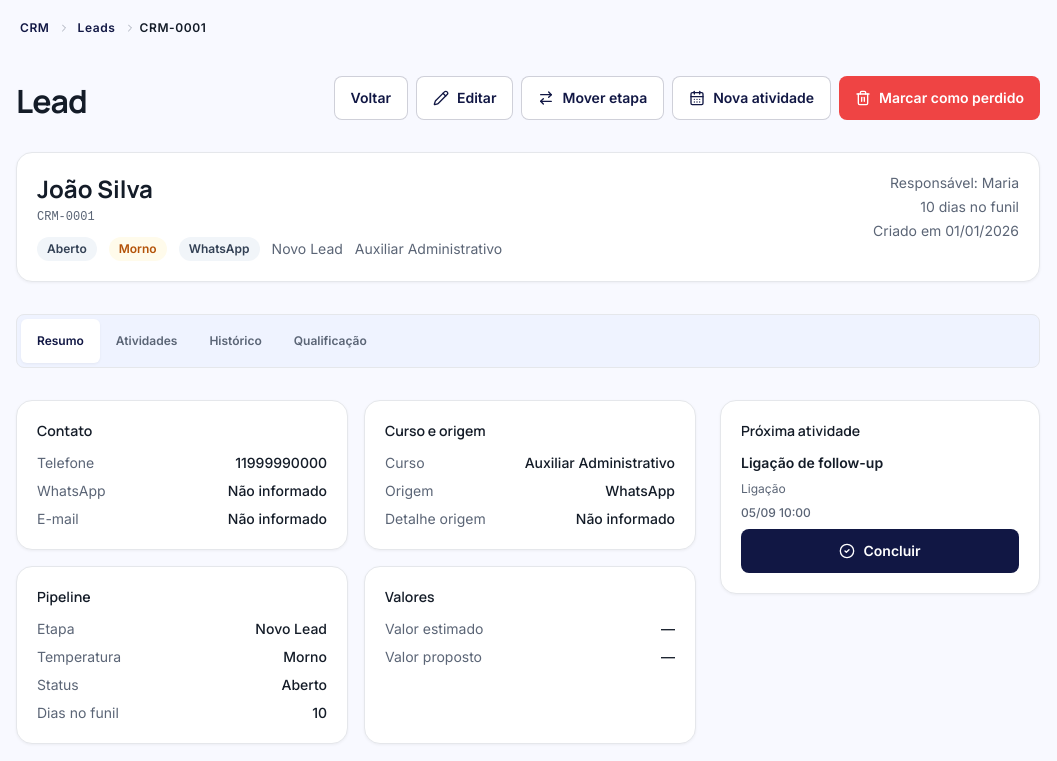
Test case: LeadDetailsPage — HistoricoTab (timeline) › shows empty state when timeline has no events
Click the tab "Histórico" at (236, 341), box [193,319,278,363]
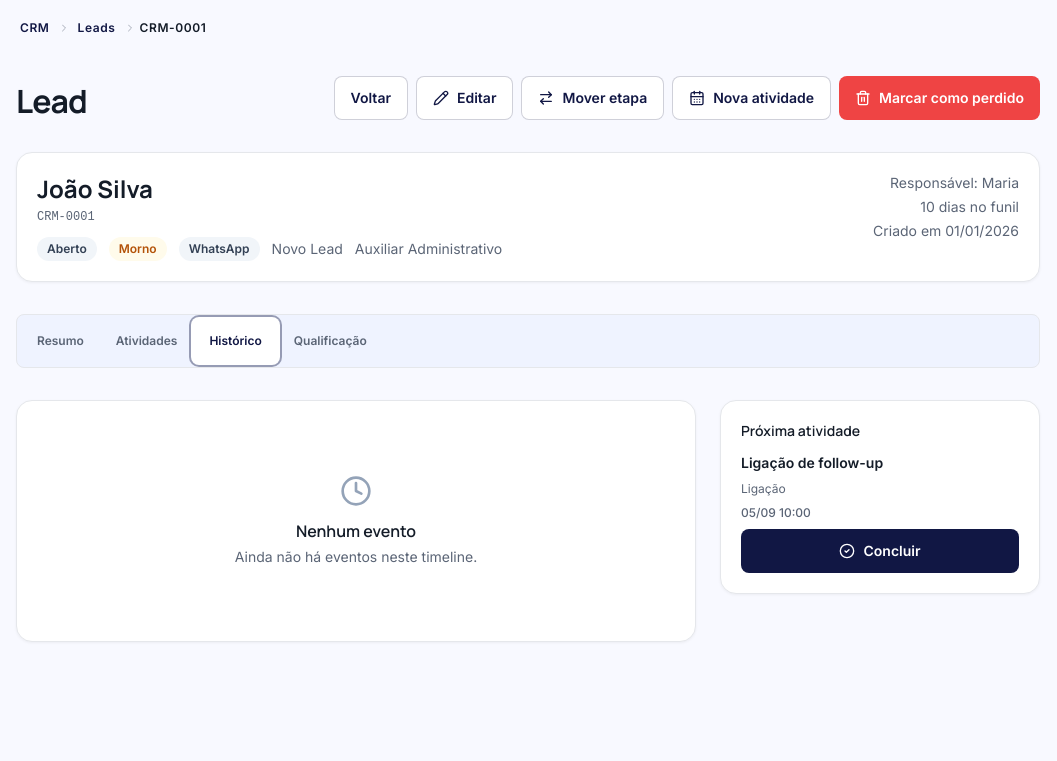
Now the heading "Nenhum evento" is shown, box [296,520,416,542]
